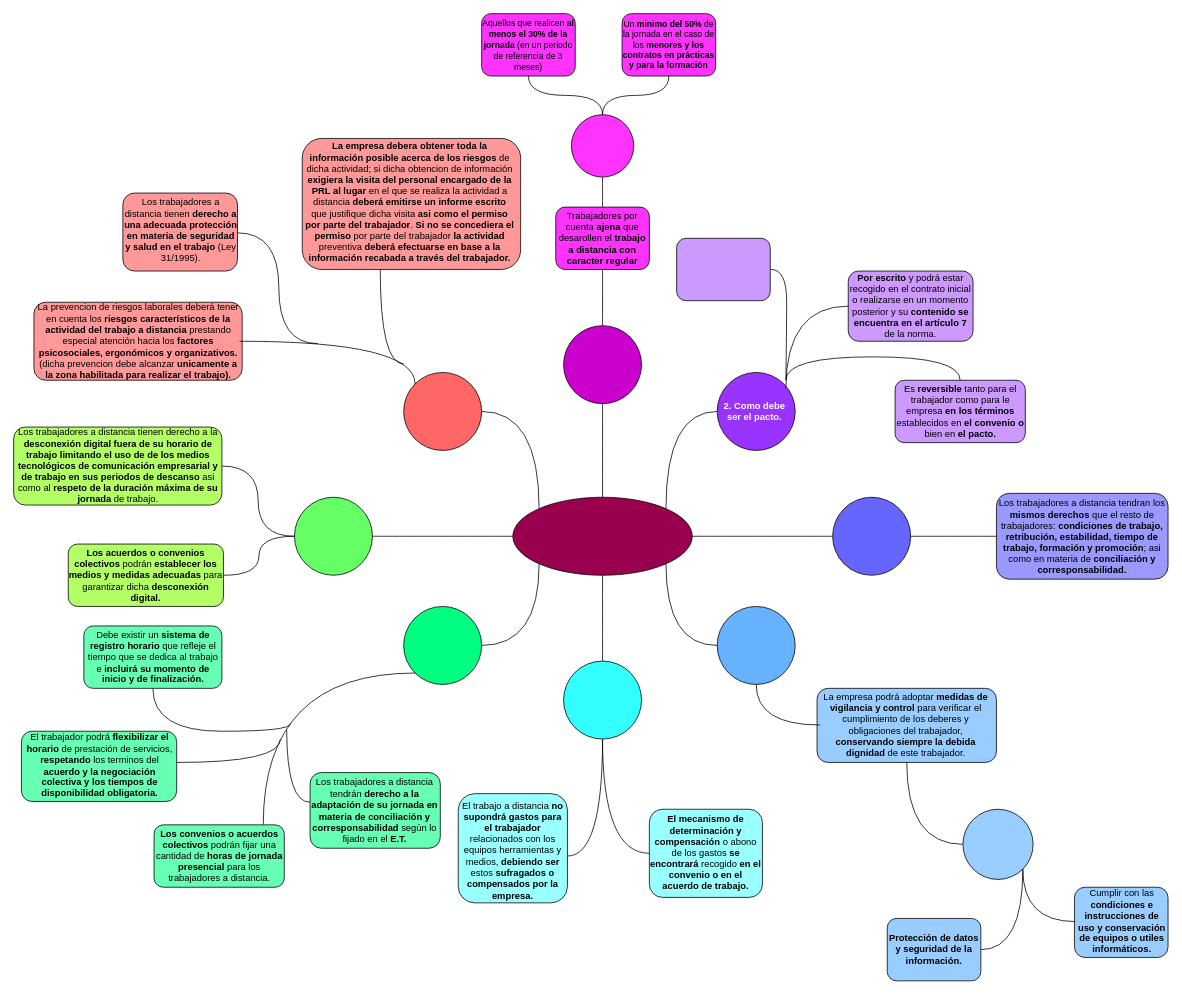
Some shapes in this 1182 by 994 pixel diagram are drawn without their labels. Here are the shapes that lost their labels. From the top down, the box of each, then its label:
(571, 114, 634, 177): Se entiende por caracter regular:
(676, 238, 770, 301): Voluntario , tanto para la persona trabajadora como para la empleadora.
(563, 325, 642, 404): 1. A quien se aplica
(403, 372, 482, 450): 8. PRL.
(294, 496, 372, 575): 7. Derecho a desconexión digital.
(512, 496, 692, 575): LEY DEL TRABAJO A DISTANCIA (Real decreto-ley 28/2020 del 22 de septiembre)
(832, 496, 911, 575): 3. Igualdad de derechos.
(403, 606, 482, 684): 6. Jornada y horario.
(716, 606, 795, 684): 4. Control empresarial y obligaciones laborales.
(563, 660, 642, 739): 5. Costes y gastos.
(962, 808, 1033, 879): Deberes y obligaciones del trabajador:
